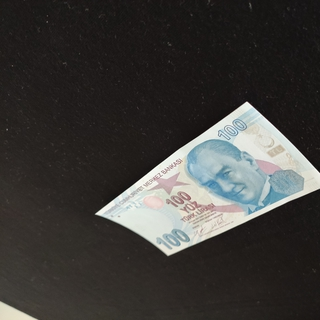100TLFront: (93, 101, 320, 256)
